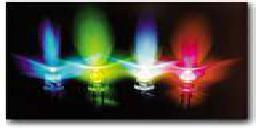LED: (33, 24, 68, 95), (127, 53, 161, 98), (82, 58, 114, 103), (174, 61, 198, 101)
